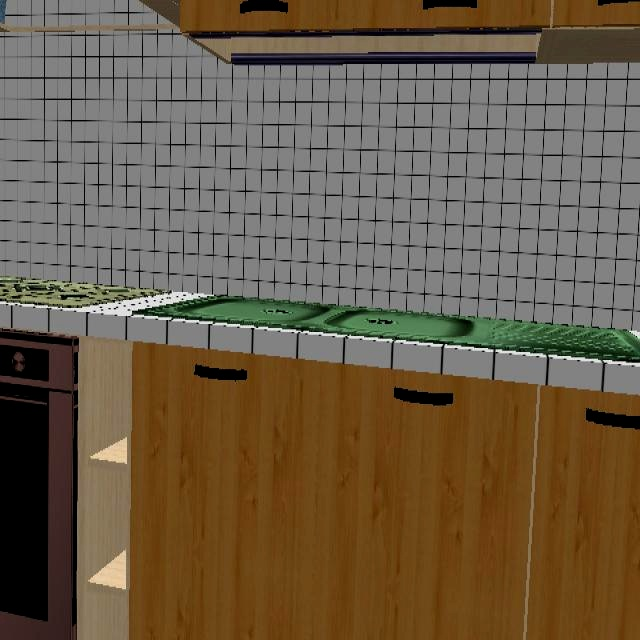cabinet: (127, 344, 640, 640)
countertop: (0, 293, 640, 396)
oven: (0, 329, 80, 640)
sink: (135, 296, 640, 367)
stove: (0, 276, 150, 309)
